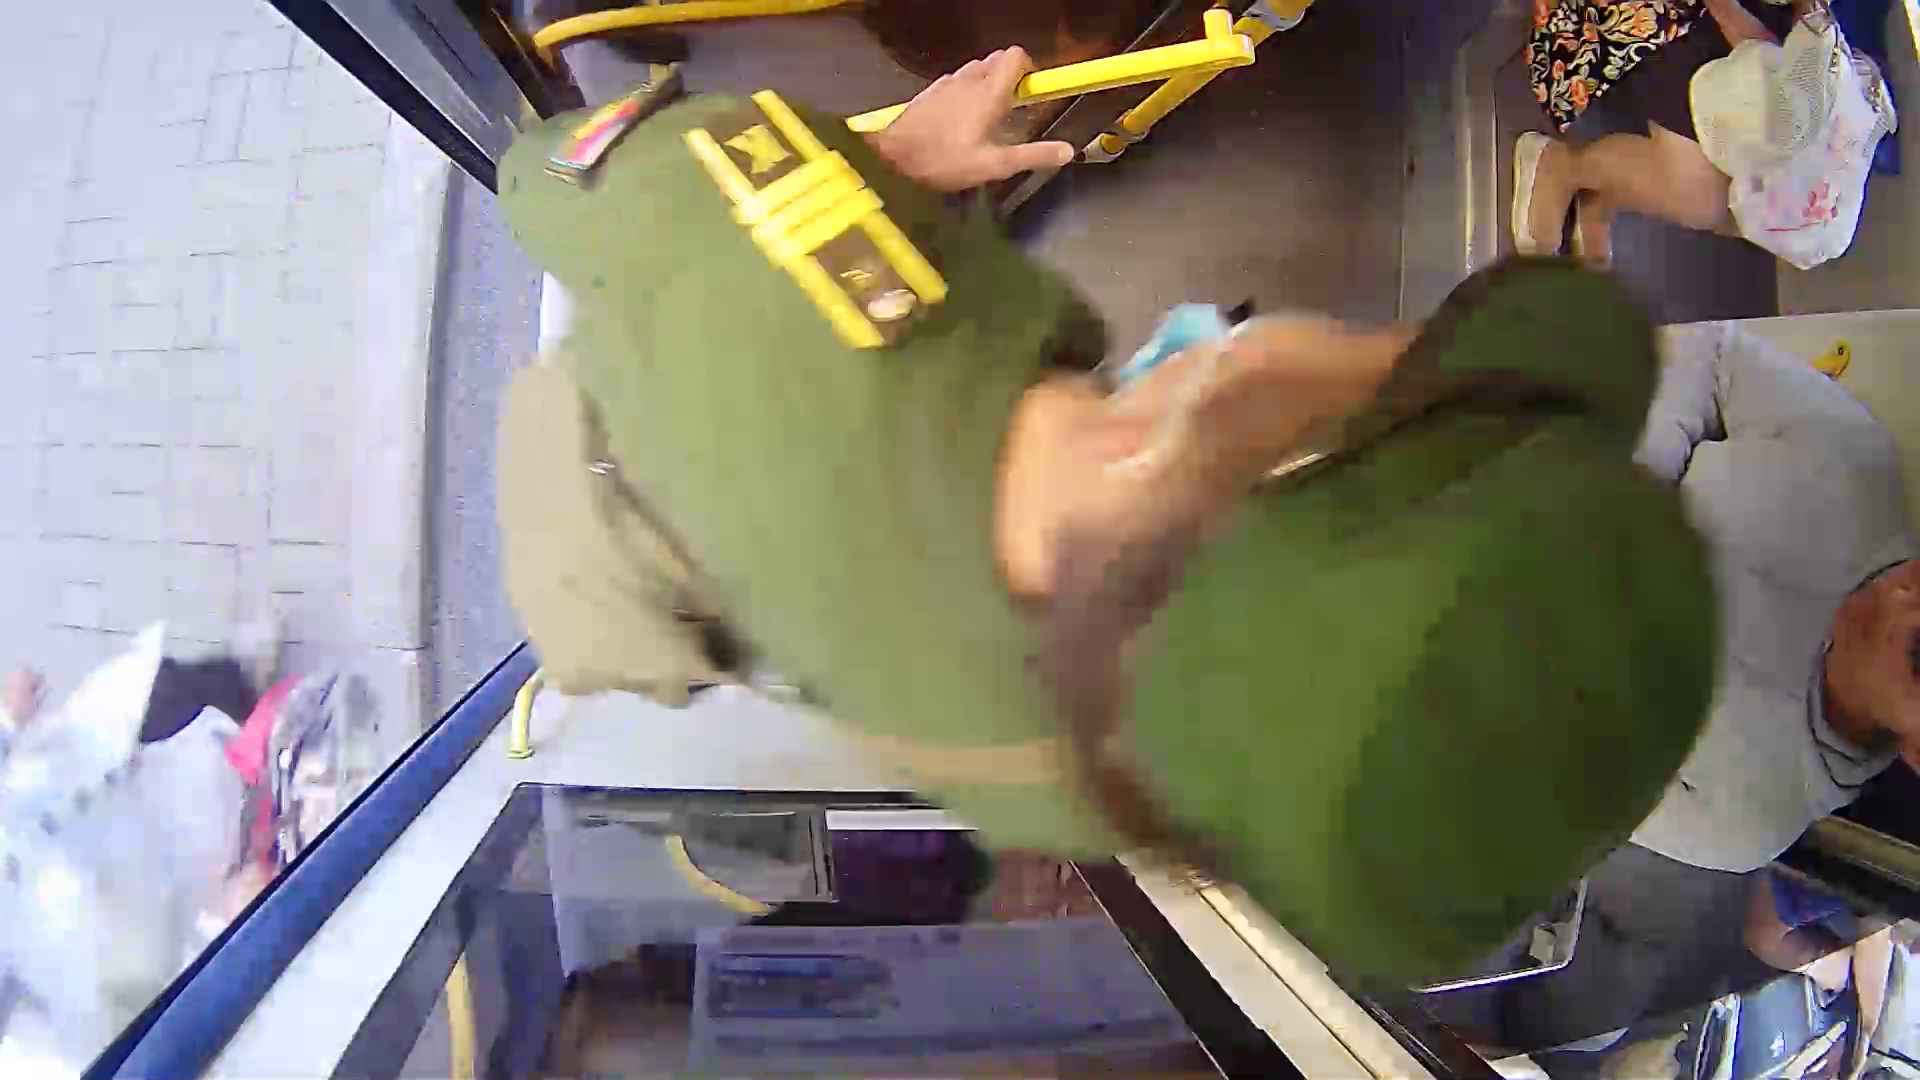person: (398, 77, 1760, 922)
